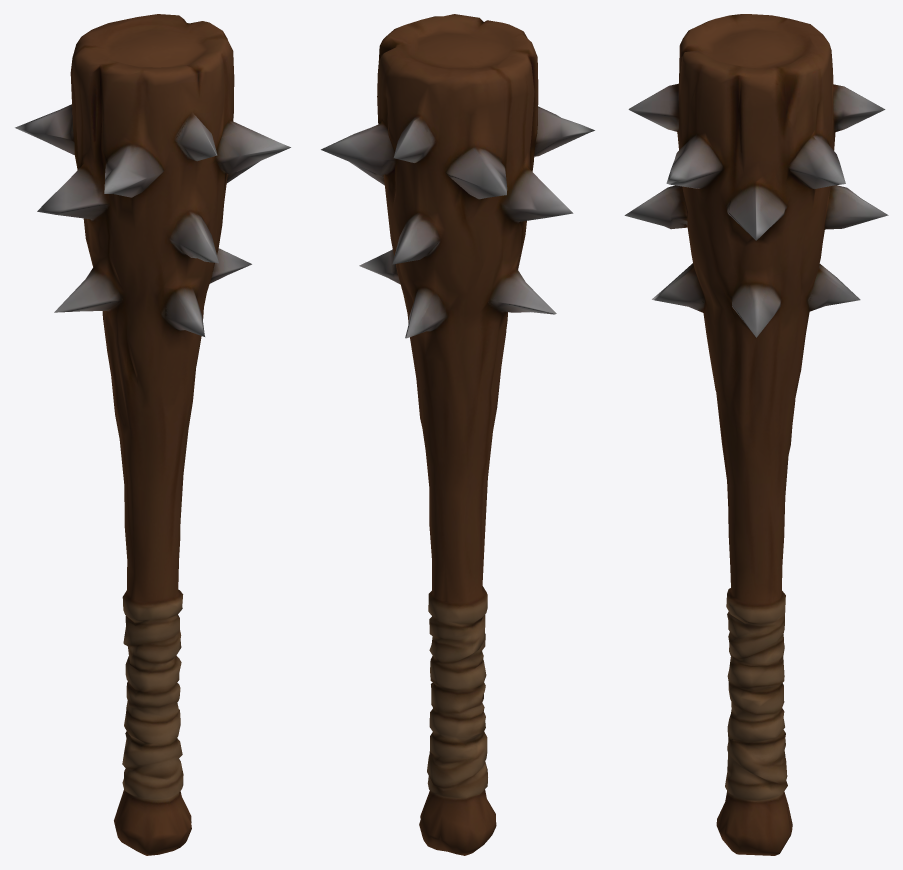
The model's file is spiked+wooden+club+3d+model.fbx.
3 views of the same model, side by side, from view 1: azimuth 30°, elevation 25°; view 2: azimuth 150°, elevation 25°; view 3: azimuth 270°, elevation 25° (orthographic).
Parts seen in each view (by area): view 1: tripo_node_c9c31bb5; view 2: tripo_node_c9c31bb5; view 3: tripo_node_c9c31bb5.
Part boxes in pixels (<box>): tripo_node_c9c31bb5: <box>15,14,290,855</box>; tripo_node_c9c31bb5: <box>321,14,594,855</box>; tripo_node_c9c31bb5: <box>624,14,888,855</box>.
Bounding box in the file's own units: 0.3014 × 1 × 0.297.
1 material, 1 textured.
